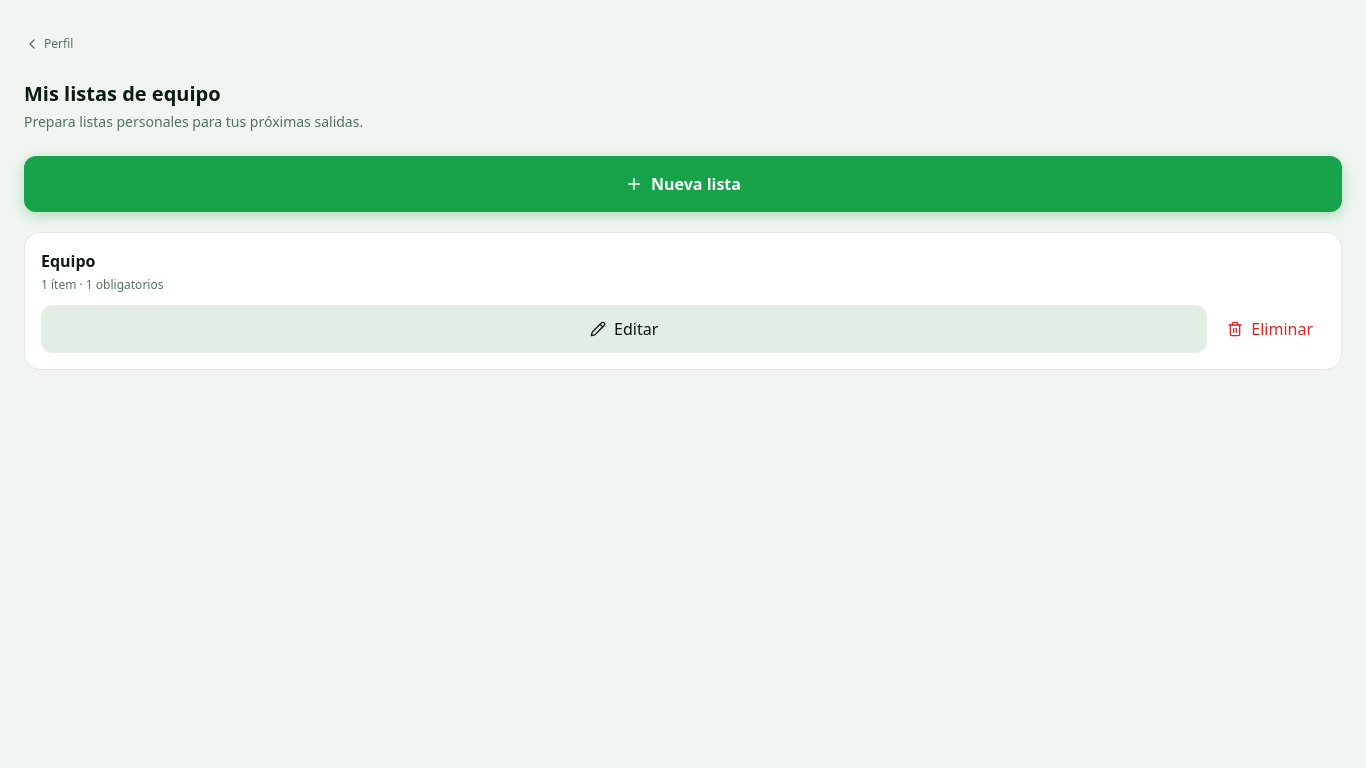
Test case: Pantalla HU-30: React sin navegador › consulta la versión actual al editar y conserva los ids de los ítems retenidos
Click the button "Editar": (624, 329) [41, 305, 1207, 353]
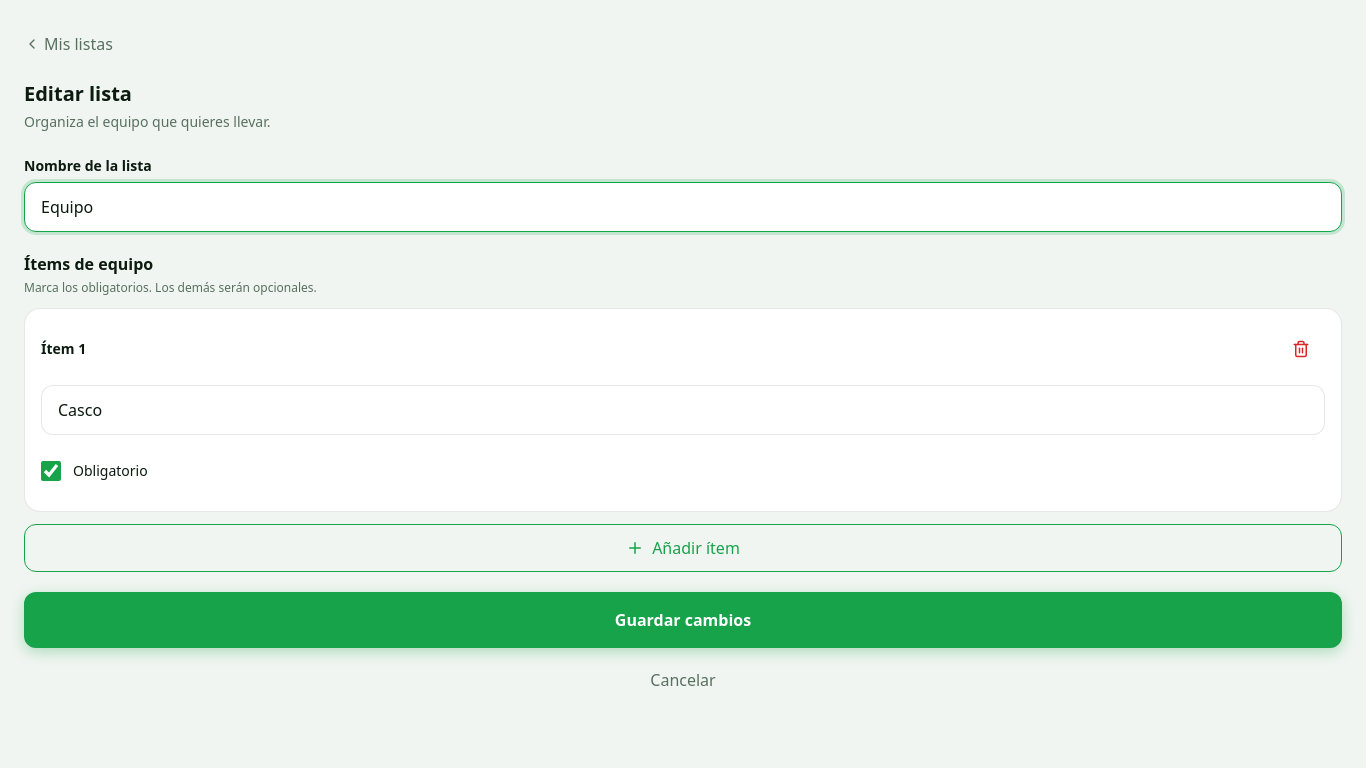
Replace the text in the field labelled "Nombre de la lista" with "Invierno": (683, 207) [24, 182, 1342, 232]
Replace the text in the field labelled "Ítem 1" with "Casco nuevo": (683, 410) [41, 385, 1325, 435]
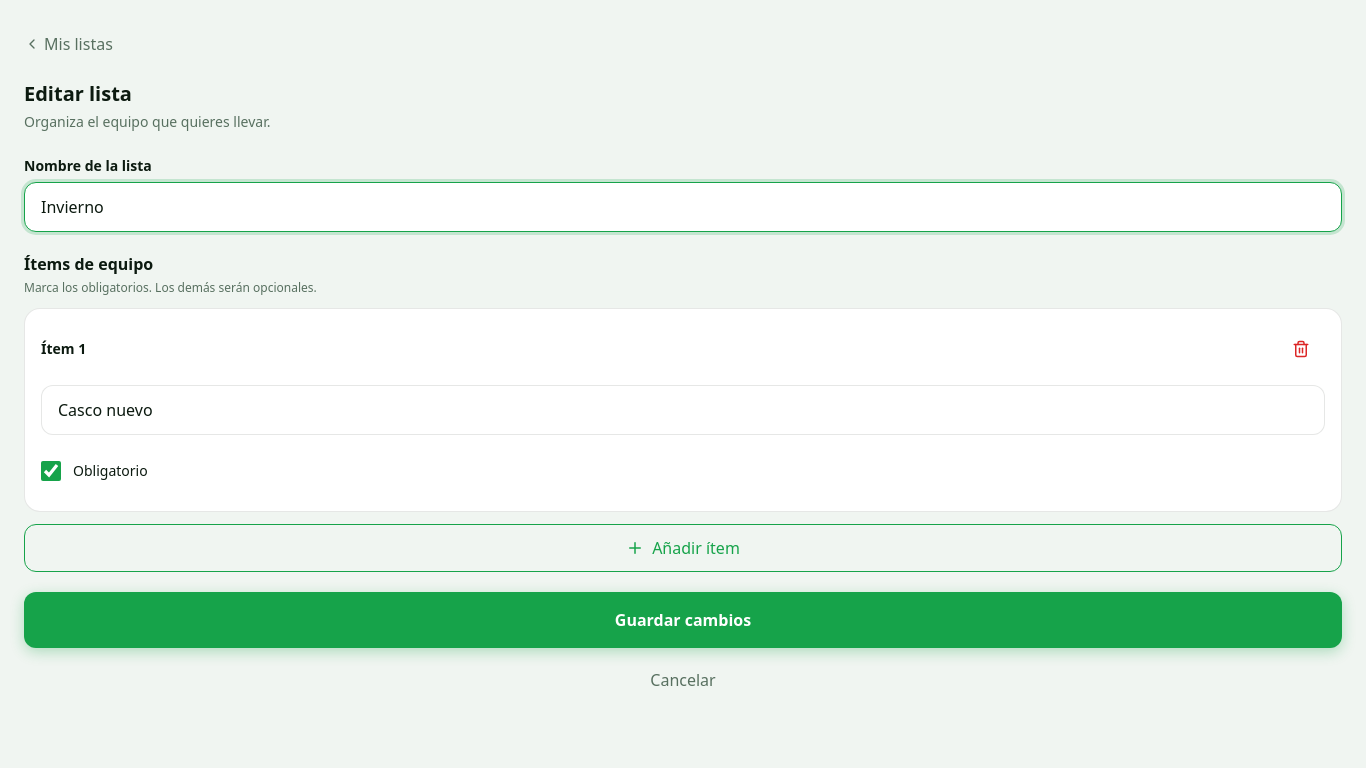
Click the button "Añadir ítem": (683, 548) [24, 524, 1342, 572]
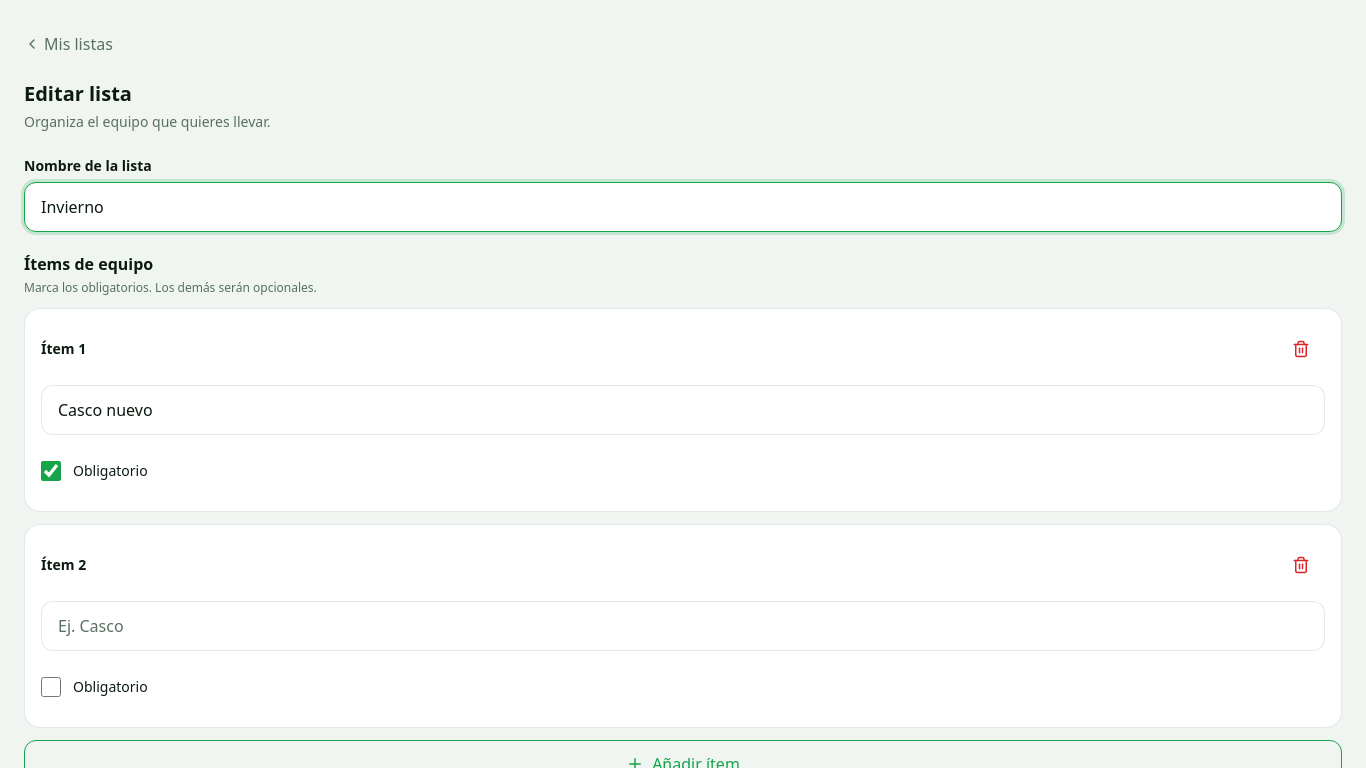
In the field labelled "Ítem 2": (683, 626) [41, 601, 1325, 651], type "Abrigo"
(page scrolled)
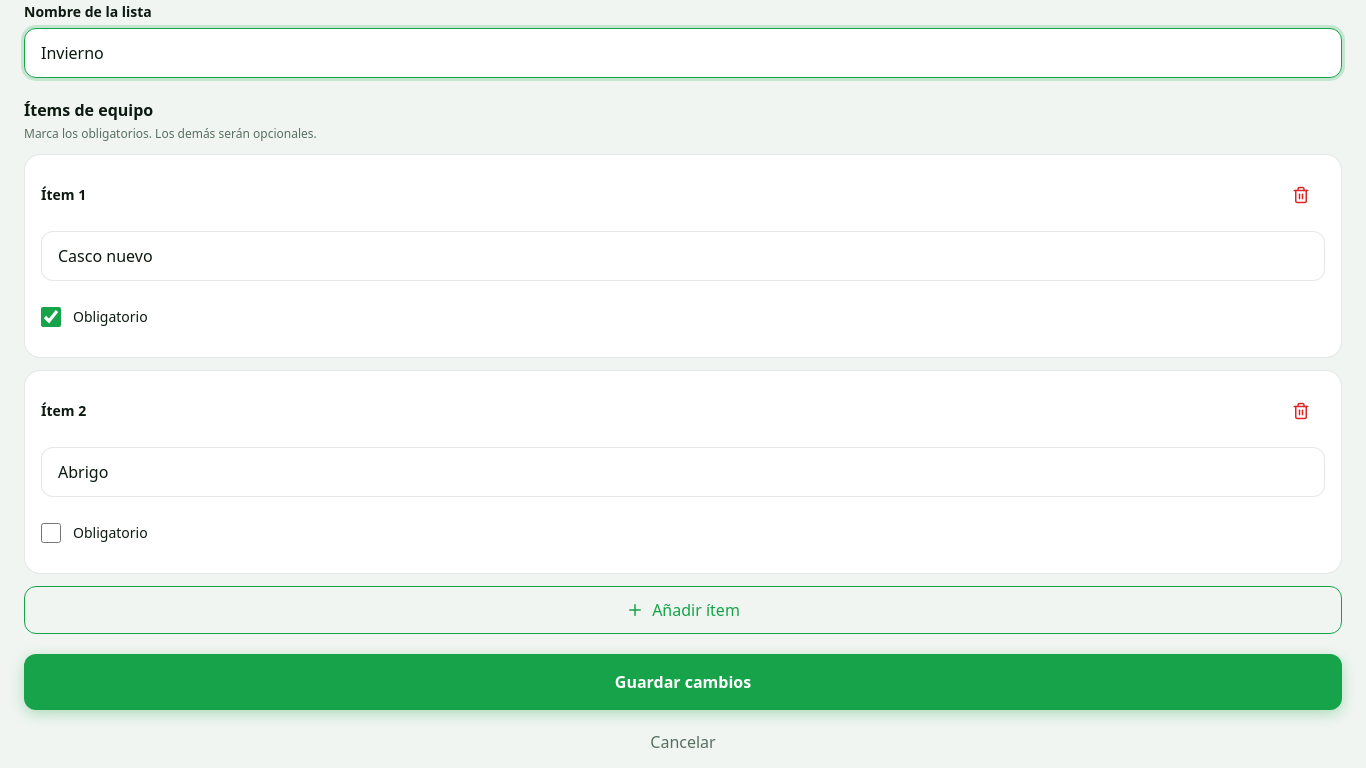
Submit the form
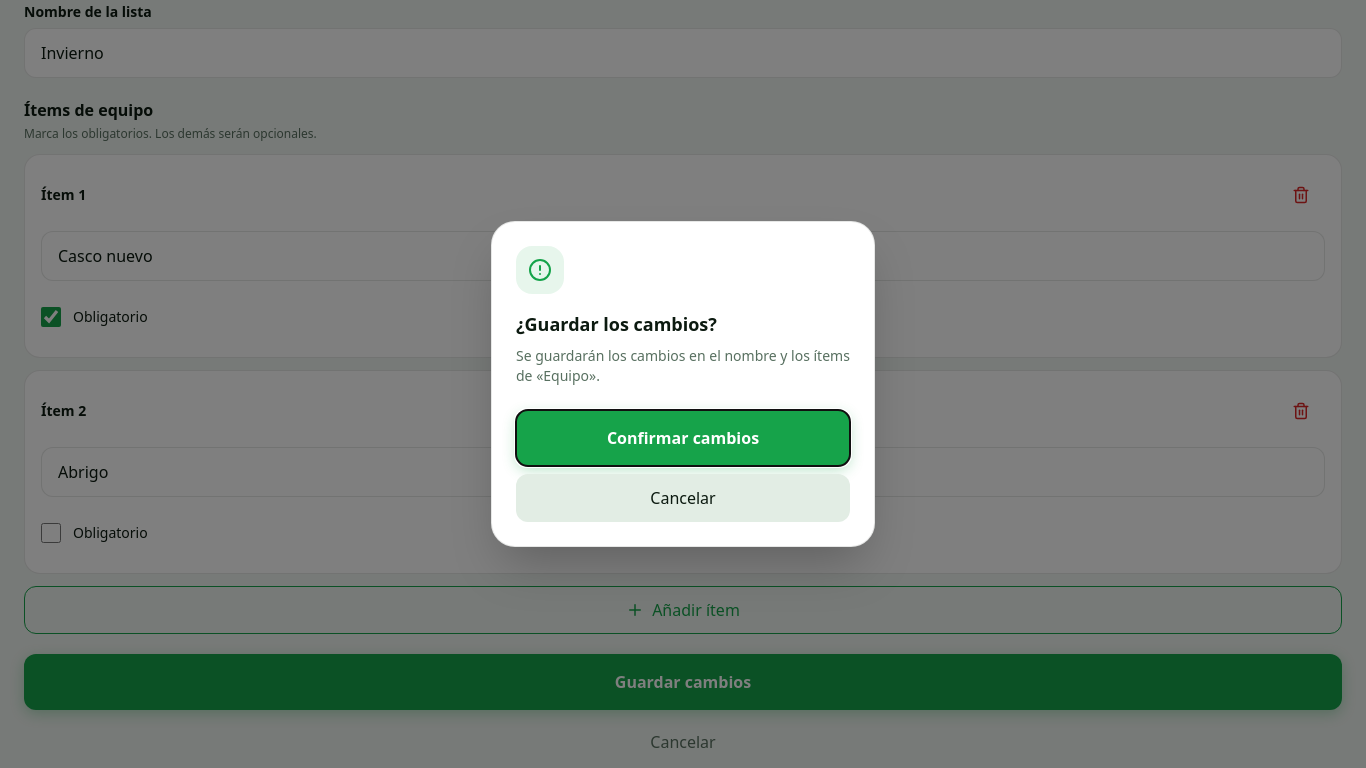
Click the button "Confirmar cambios": (683, 438) [516, 410, 850, 466]
(page scrolled)
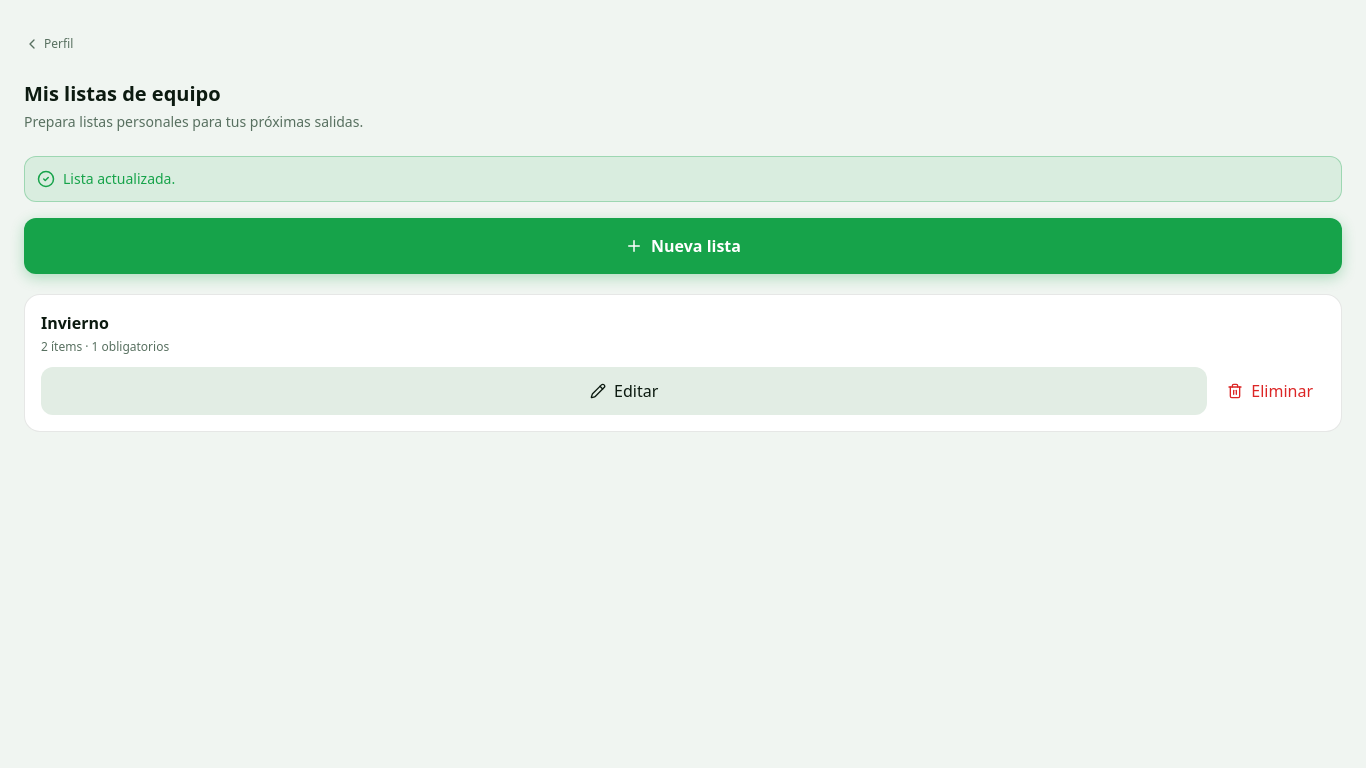
expect the heading "Invierno" is shown: met, box [41, 312, 109, 334]
